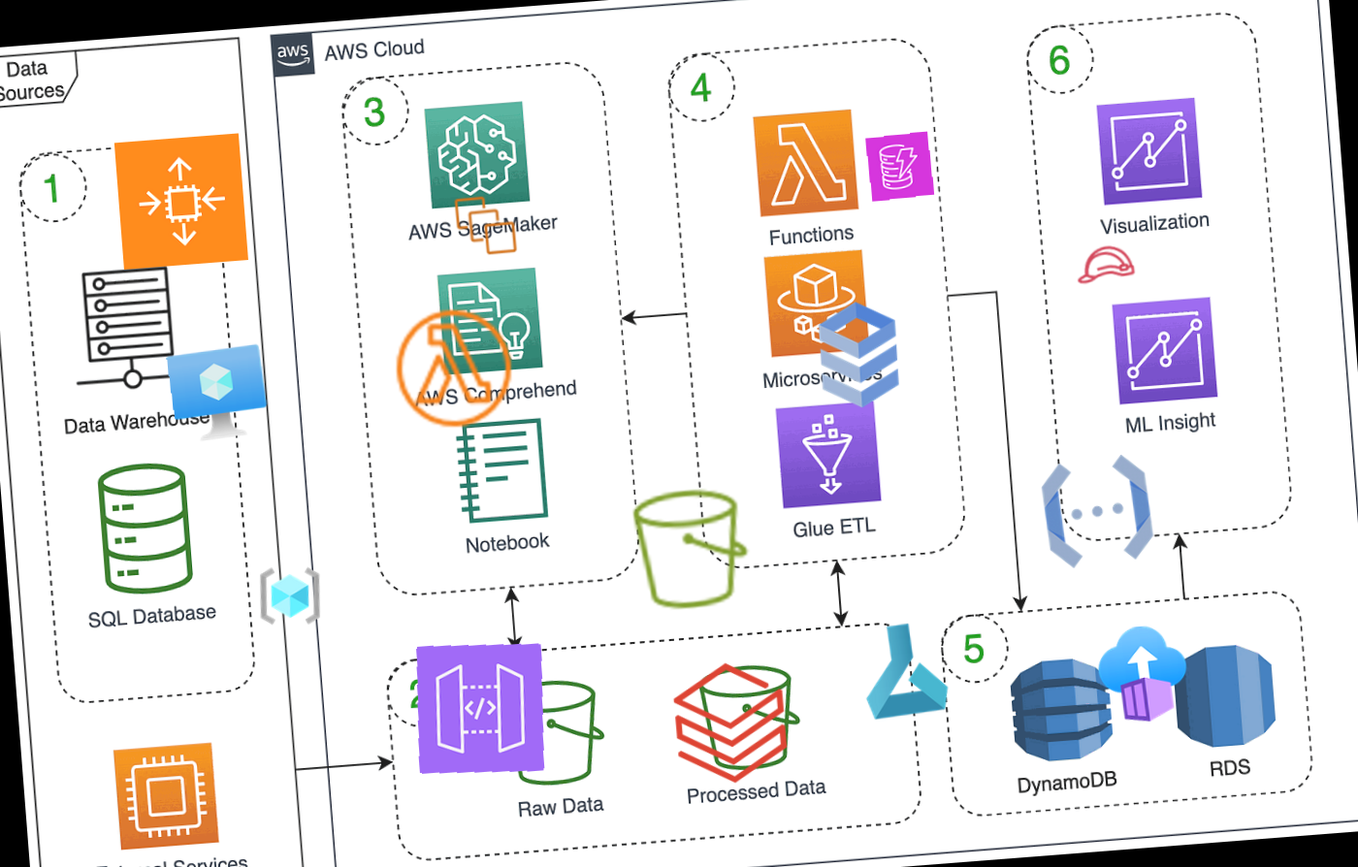aws_amazon_api_gateway: (408, 636, 551, 781)
aws_amazon_dynamodb: (863, 130, 935, 202)
aws_amazon_ec2_auto_scaling: (113, 132, 249, 271)
aws_ec2_instances: (451, 190, 520, 260)
aws_identity_access_management_role: (1069, 227, 1140, 300)
aws_lambda_lambda_function: (381, 295, 526, 441)
aws_simple_storage_service_s3_standard: (623, 479, 759, 618)
azure_container_instances: (1089, 620, 1196, 727)
azure_databricks: (662, 654, 798, 791)
azure_machine_learning: (850, 615, 956, 723)
azure_resource_groups: (253, 559, 326, 632)
azure_virtual_machine: (165, 341, 272, 450)
gcp_cloud_functions: (1025, 438, 1168, 583)
gcp_cloud_sql: (791, 285, 926, 424)
